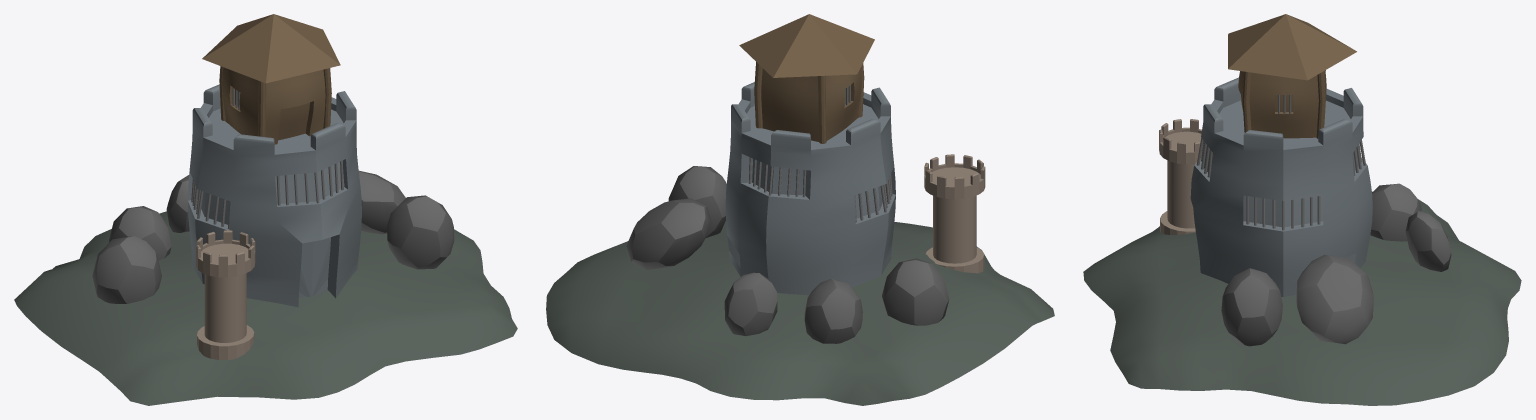
File: Prision Island.fbx
The picture shows the model from 3 angles, left to right: view 1: azimuth 30°, elevation 25°; view 2: azimuth 150°, elevation 25°; view 3: azimuth 270°, elevation 25°; orthographic projection. The views are drawn at different scales.
Parts seen in each view (by area): view 1: pPlane1, pCylinder14, pCube18, pCube20, pCylinder13, polySurface12; view 2: pPlane1, pCylinder14, pCube18, pCube20, pCylinder13, polySurface12; view 3: pPlane1, pCylinder14, pCube18, pCube20, pCylinder13, polySurface12.
Part boxes in pixels (x1,y1,x2,y2): pPlane1: [14, 211, 517, 405]; pCylinder14: [188, 84, 361, 307]; pCube18: [92, 170, 454, 303]; pCube20: [202, 14, 340, 144]; pCylinder13: [196, 230, 255, 359]; polySurface12: [191, 87, 343, 228]; pPlane1: [546, 221, 1054, 405]; pCylinder14: [725, 82, 895, 295]; pCube18: [626, 166, 949, 343]; pCube20: [739, 14, 874, 143]; pCylinder13: [924, 154, 985, 273]; polySurface12: [748, 85, 892, 222]; pPlane1: [1083, 191, 1521, 405]; pCylinder14: [1190, 77, 1372, 296]; pCube18: [1221, 183, 1451, 346]; pCube20: [1228, 14, 1356, 138]; pCylinder13: [1159, 119, 1203, 234]; polySurface12: [1196, 95, 1365, 230].
Bounding box in the file's own units: 19.12 × 13.01 × 17.55.
